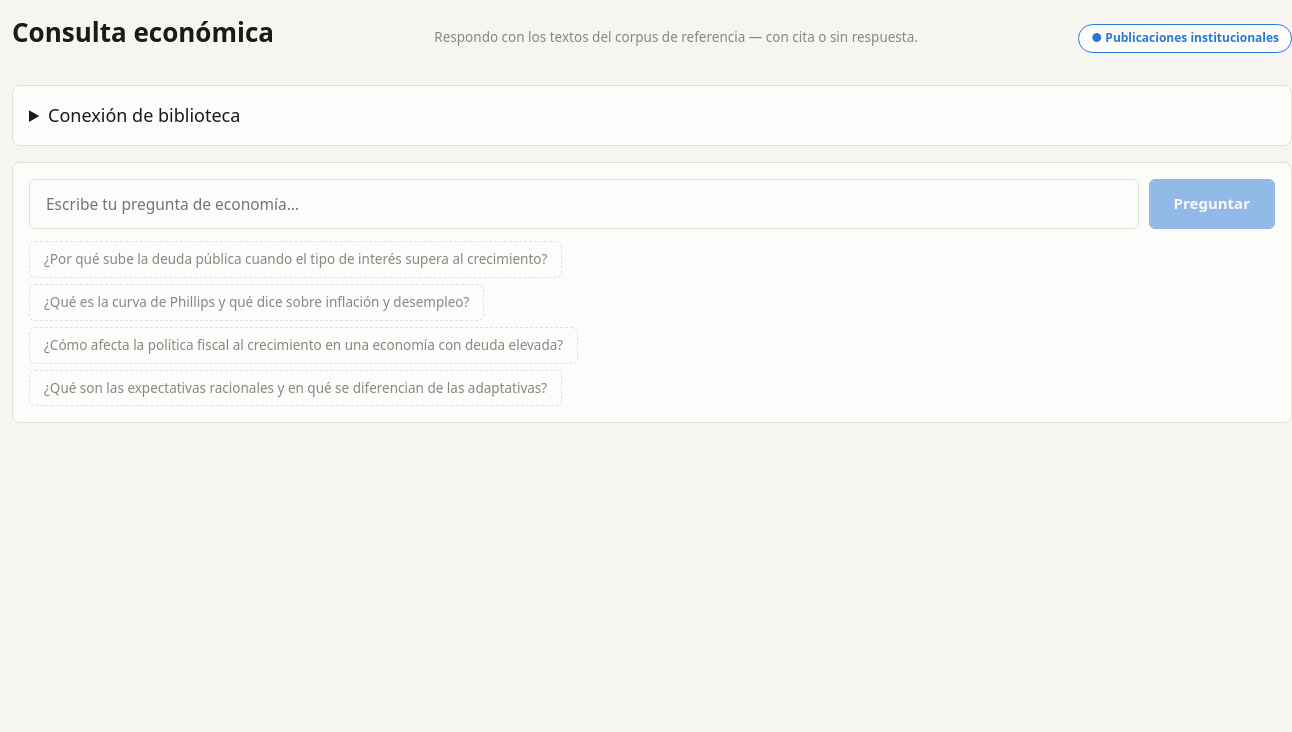
it: Consulta — available library service › loads collections from a changed connection and clears the previous answer and sources
Step 1. Type "Explica la política monetaria" into the field named "Pregunta económica" → (584, 204), box [29,180,1139,229]
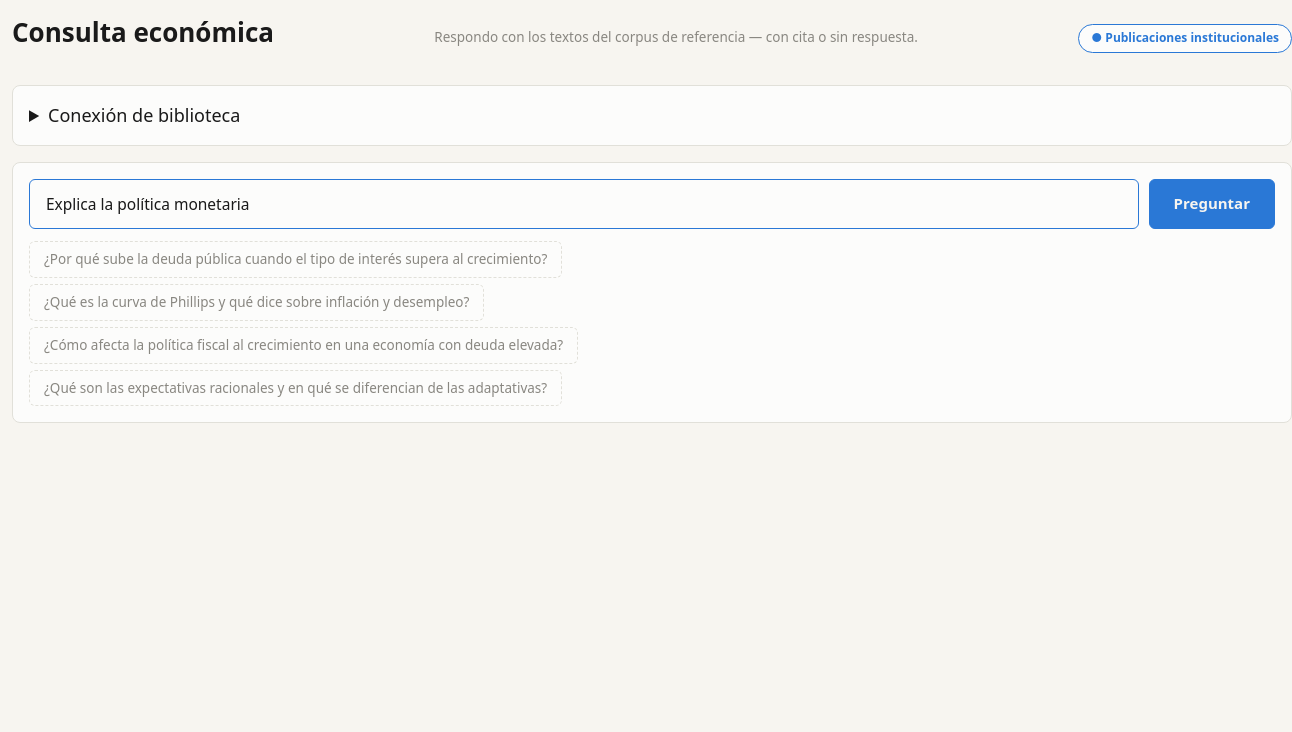
Step 2. Click the button "Preguntar" → (1212, 204), box [1149,180,1275,229]
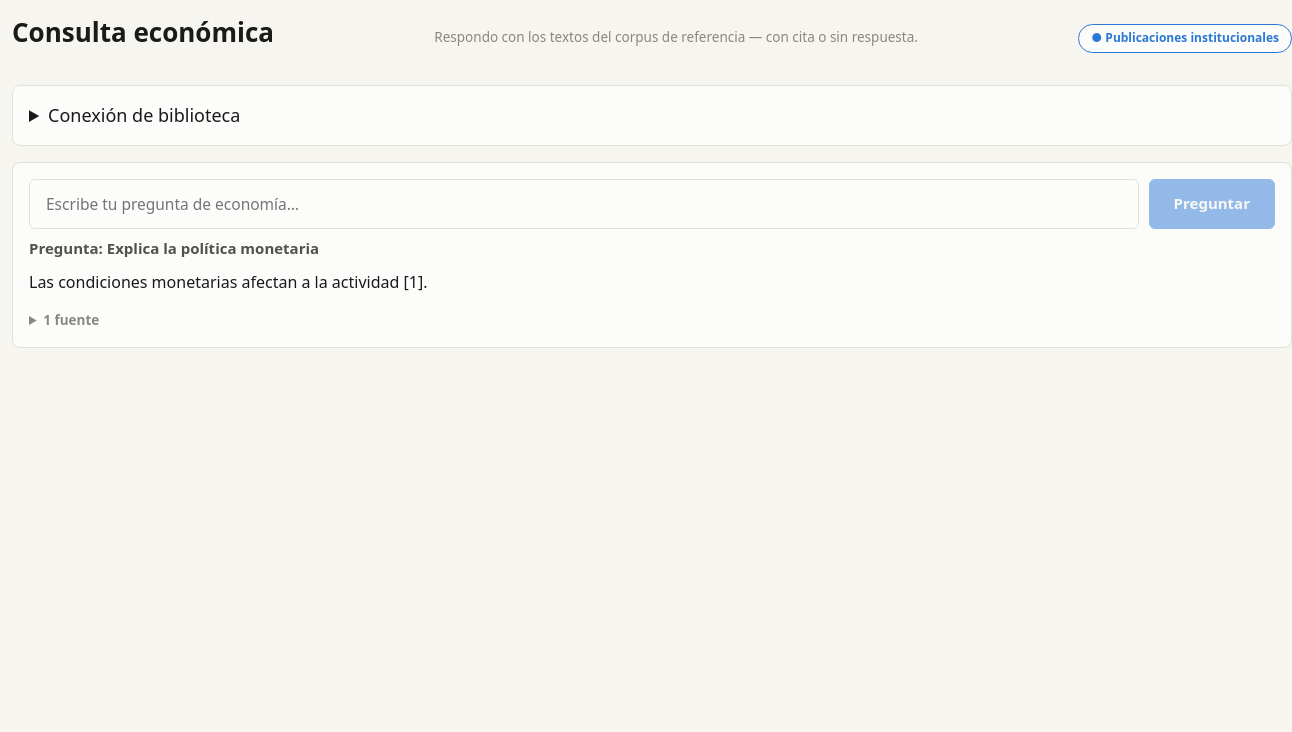
Now the text "Las condiciones monetarias afectan a la actividad [1]." is shown, box [29,271,428,293]
Step 3. Click the heading "Conexión de biblioteca" → (144, 115), box [48,103,240,127]
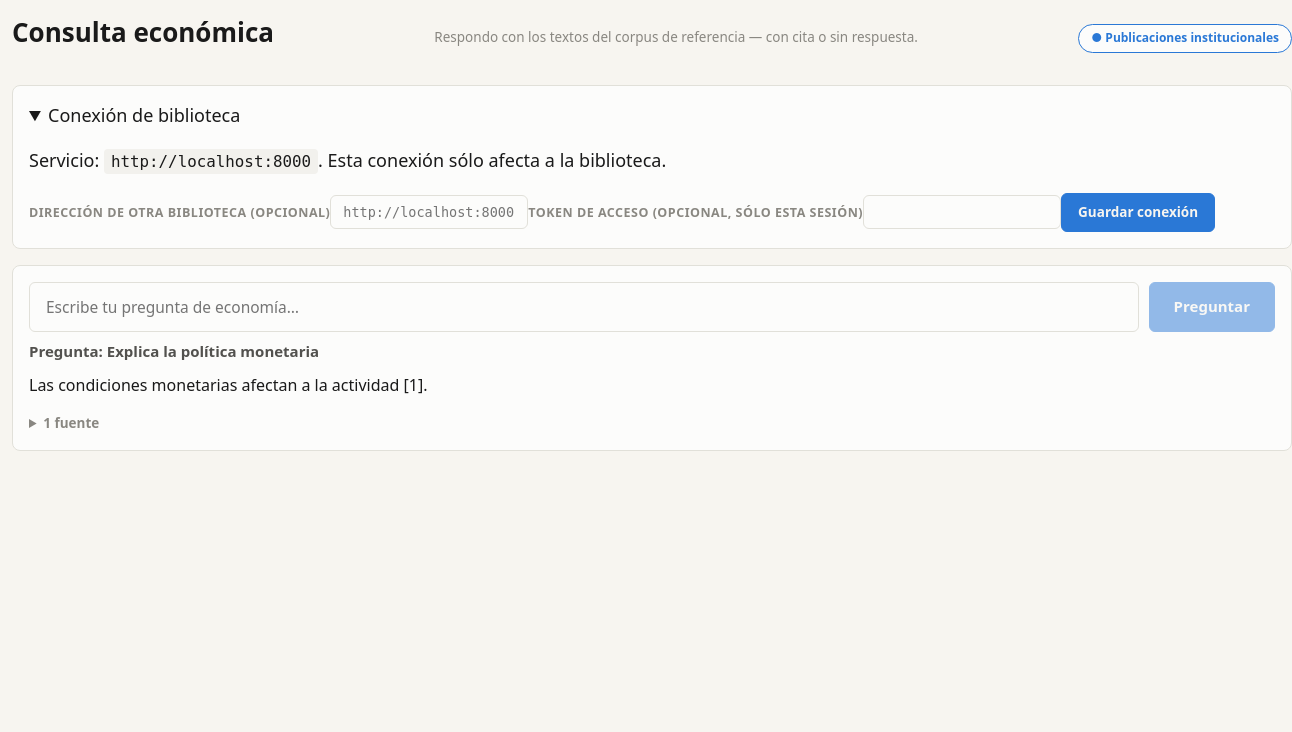
Step 4. Type "https://public-library.example.test" into the field labelled "Dirección de otra biblioteca (opcional)" → (429, 212), box [330,195,528,229]
Step 5. Click the button "Guardar conexión" → (1138, 213), box [1061,193,1215,232]
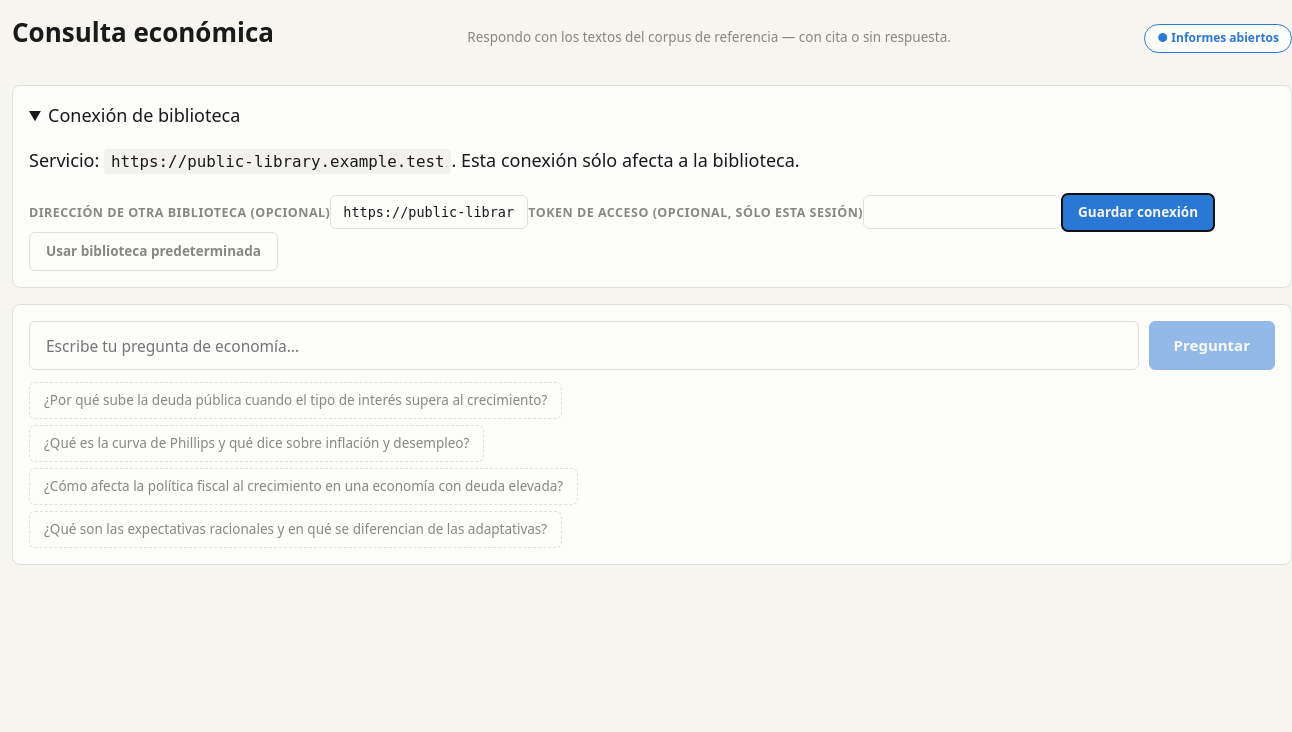
Now the text "Las condiciones monetarias afectan a la actividad [1]." is gone
Now the text "Explica la política monetaria" is gone
Step 6. Type "Explica la inflación" into the field named "Pregunta económica" → (584, 346), box [29,321,1139,370]
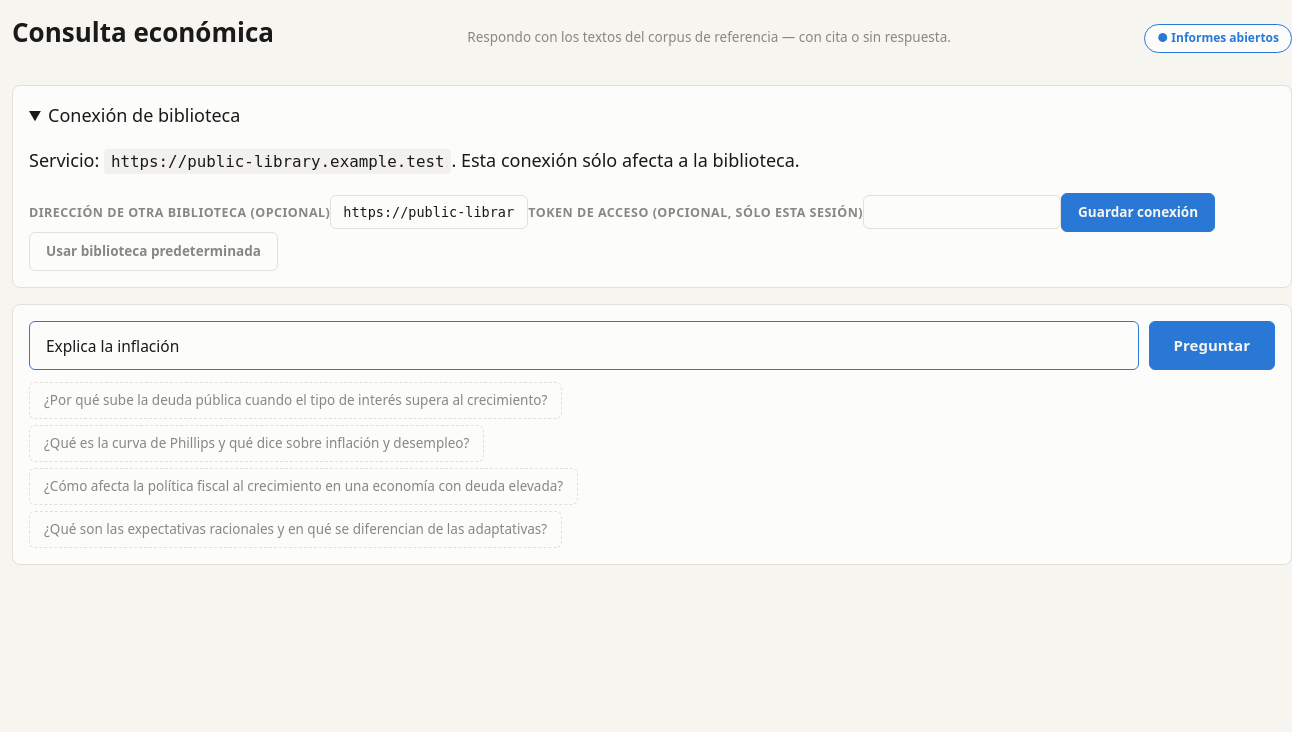
Step 7. Click the button "Preguntar" → (1212, 346), box [1149,321,1275,370]
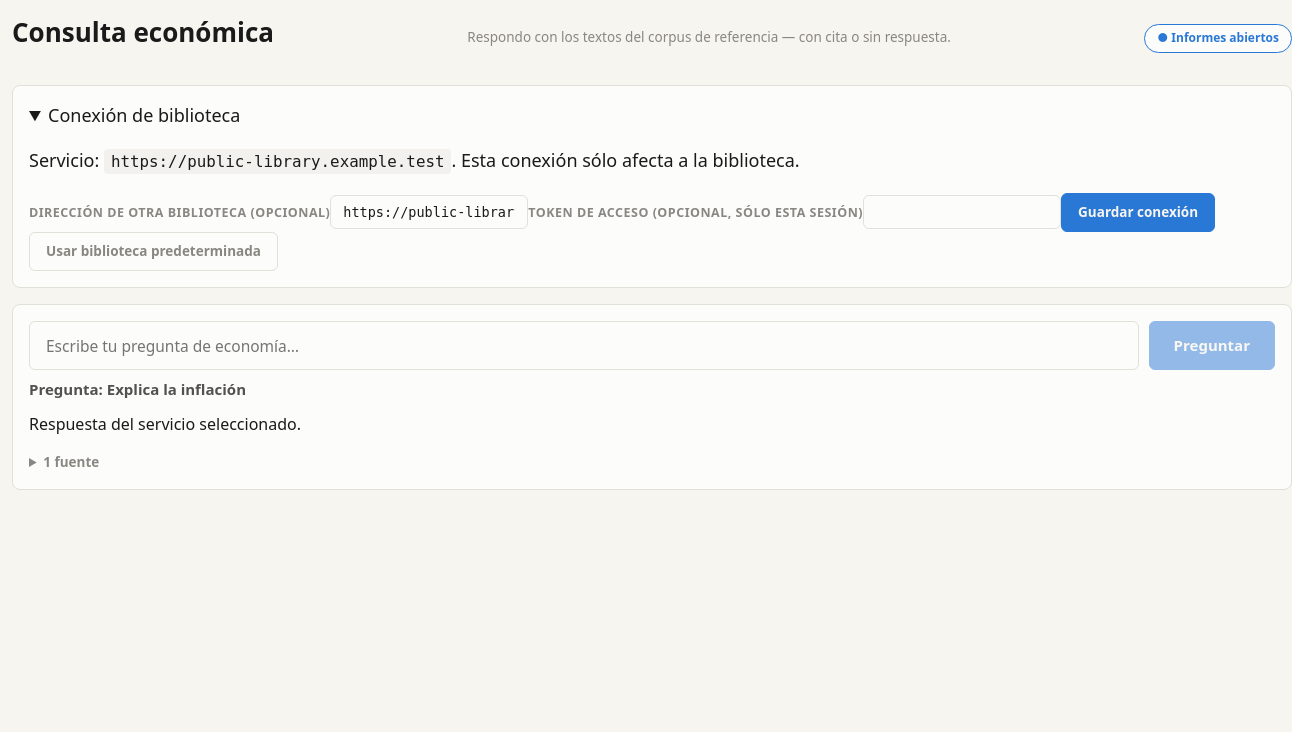
Now the text "Respuesta del servicio seleccionado." is shown, box [29,413,301,435]
